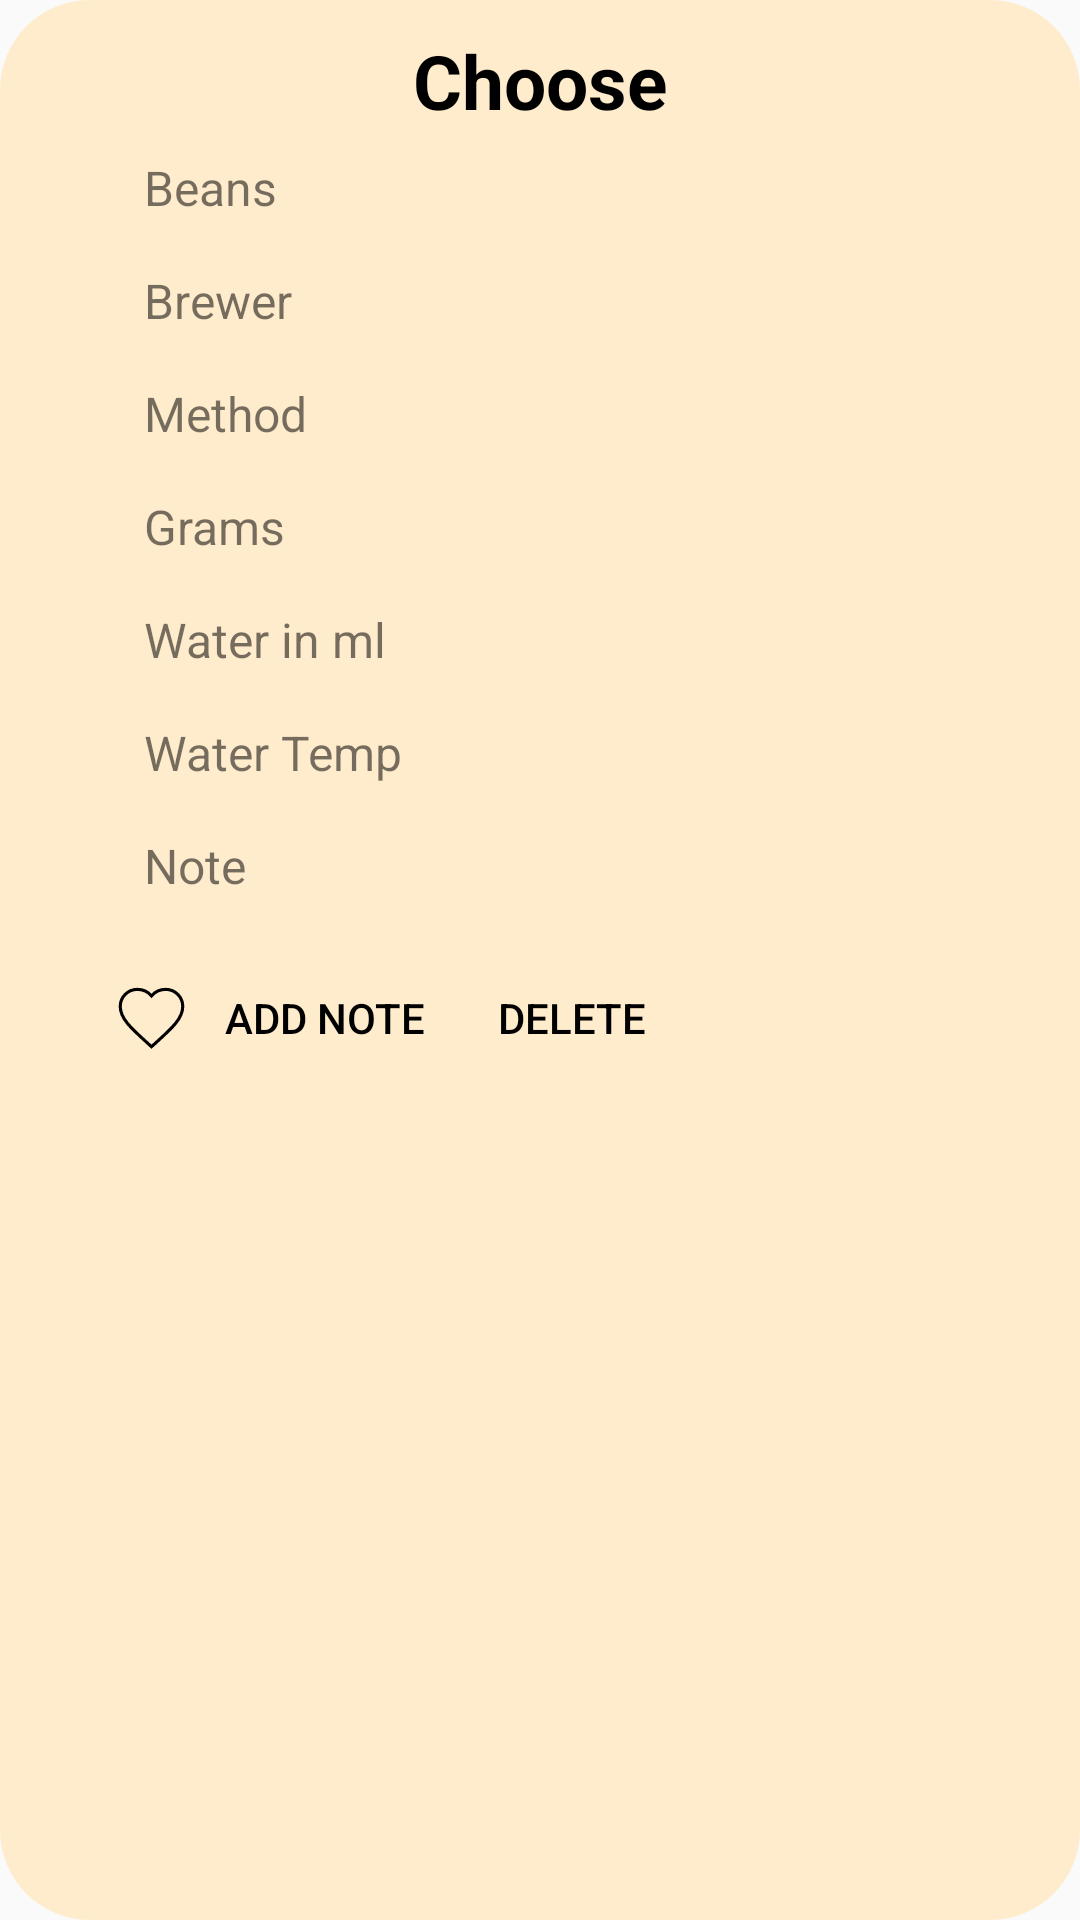

Screen size 1080px×1920px. Icon name, then its center in pixels as point (x, y):
Favorite: point (151, 1018)
